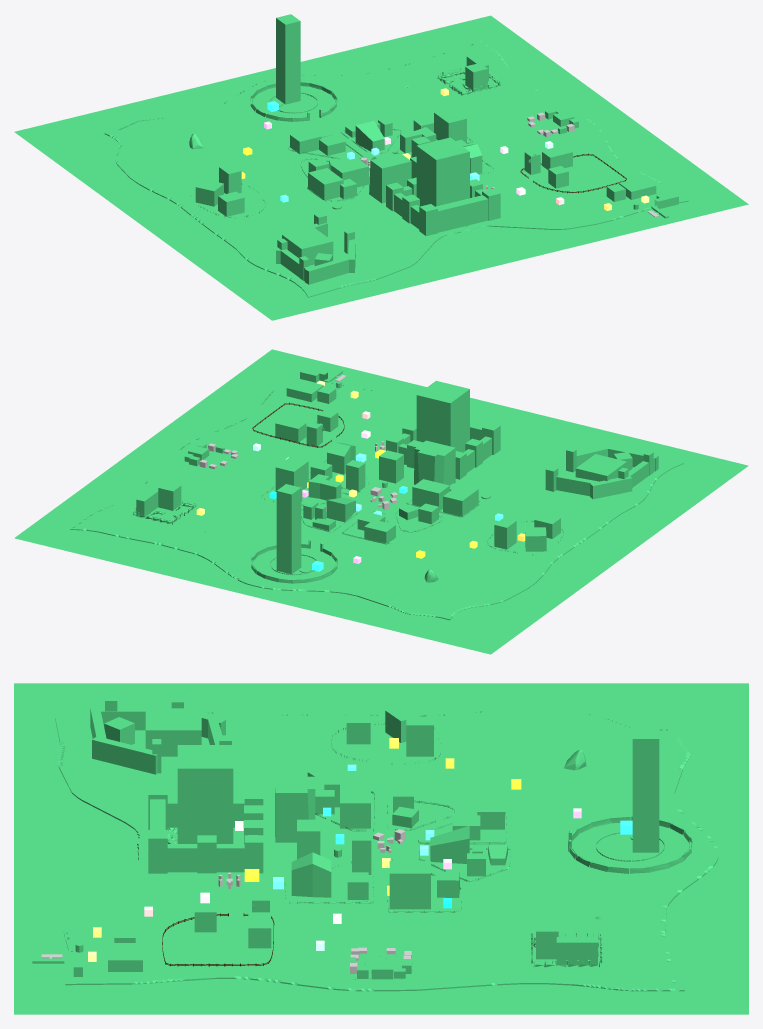
3 renders of one model, top to bottom at view 1: azimuth 30°, elevation 25°; view 2: azimuth 150°, elevation 25°; view 3: azimuth 270°, elevation 25°, orthographic. The views are drawn at different scales.
Visible parts, largest first — view 1: COL_Ground, COL_Water, COL_WonderWalls_SecondAge, COL_Temple_SecondAge_Level2, COL_House_3.001, COL_Wall_SecondAge.002, COL_Barracks_SecondAge_Level3, COL_Barracks_FirstAge_Level2.001, COL_Inn, COL_Stable.001, COL_Houses_SecondAge_2_Level2.002, COL_Houses_SecondAge_2_Level2.001 (+8 smaller); view 2: COL_Ground, COL_Water, COL_Temple_SecondAge_Level2, COL_WonderWalls_SecondAge, COL_Wall_SecondAge.002, COL_House_3.001, COL_Barracks_SecondAge_Level3, COL_Barracks_FirstAge_Level2.001, COL_Inn, COL_Stable.001, COL_Houses_SecondAge_2_Level2.002, COL_TowerHouse_SecondAge (+11 smaller); view 3: COL_Ground, COL_Water, COL_WonderWalls_SecondAge, COL_Temple_SecondAge_Level2, COL_House_3.001, COL_Wall_SecondAge.002, COL_Barracks_SecondAge_Level3, COL_Barracks_FirstAge_Level2.001, COL_Inn, COL_Houses_SecondAge_2_Level2, COL_Wall_SecondAge, COL_Houses_SecondAge_2_Level2.002 (+17 smaller).
Part boxes in pixels (x1,y1,x2,y2): COL_Ground: [104, 39, 688, 297]; COL_Water: [14, 15, 748, 320]; COL_WonderWalls_SecondAge: [386, 177, 500, 236]; COL_Temple_SecondAge_Level2: [416, 137, 469, 206]; COL_House_3.001: [276, 14, 300, 104]; COL_Wall_SecondAge.002: [276, 223, 355, 284]; COL_Barracks_SecondAge_Level3: [369, 152, 411, 203]; COL_Barracks_FirstAge_Level2.001: [282, 227, 333, 265]; COL_Inn: [434, 108, 466, 142]; COL_Stable.001: [308, 168, 343, 200]; COL_Houses_SecondAge_2_Level2.002: [331, 158, 368, 187]; COL_Houses_SecondAge_2_Level2.001: [355, 121, 384, 151]; COL_Ground: [70, 372, 683, 620]; COL_Water: [14, 349, 748, 654]; COL_Temple_SecondAge_Level2: [416, 380, 469, 452]; COL_WonderWalls_SecondAge: [386, 422, 500, 479]; COL_Wall_SecondAge.002: [556, 444, 658, 499]; COL_House_3.001: [276, 484, 301, 574]; COL_Barracks_SecondAge_Level3: [414, 440, 455, 485]; COL_Barracks_FirstAge_Level2.001: [575, 454, 626, 481]; COL_Inn: [275, 456, 308, 491]; COL_Stable.001: [443, 484, 478, 516]; COL_Houses_SecondAge_2_Level2.002: [412, 479, 449, 511]; COL_TowerHouse_SecondAge: [379, 450, 403, 483]; COL_Ground: [55, 709, 718, 991]; COL_Water: [14, 683, 748, 1014]; COL_WonderWalls_SecondAge: [148, 786, 263, 873]; COL_Temple_SecondAge_Level2: [177, 745, 233, 843]; COL_House_3.001: [632, 728, 659, 852]; COL_Wall_SecondAge.002: [90, 707, 225, 774]; COL_Barracks_SecondAge_Level3: [275, 772, 315, 842]; COL_Barracks_FirstAge_Level2.001: [145, 708, 201, 756]; COL_Inn: [389, 861, 430, 909]; COL_Houses_SecondAge_2_Level2: [291, 852, 331, 897]; COL_Wall_SecondAge: [569, 816, 692, 873]; COL_Houses_SecondAge_2_Level2.002: [340, 784, 370, 828].
Size of the model in its own units: 320 by 54.35 by 300.
28 materials, 1 textured.
